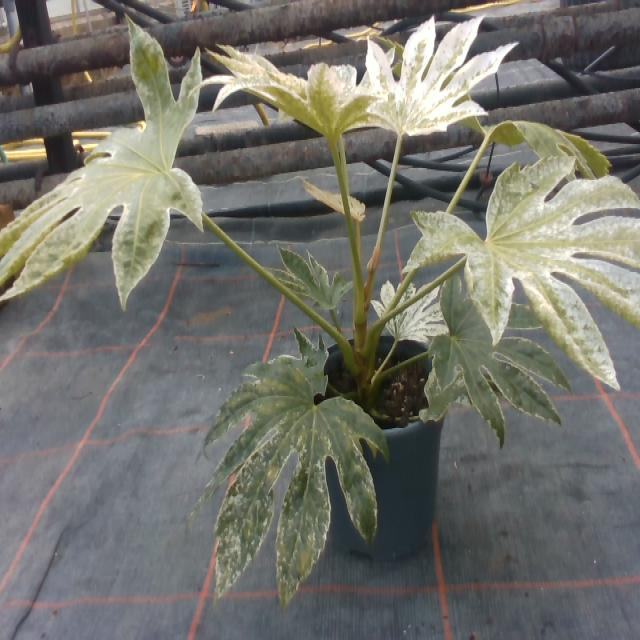Fatsia-japonica: (1, 21, 220, 319), (200, 318, 388, 596), (411, 163, 640, 389), (205, 14, 384, 157), (426, 266, 568, 431), (353, 12, 516, 152), (459, 92, 620, 195), (267, 224, 354, 321), (376, 262, 459, 358)
